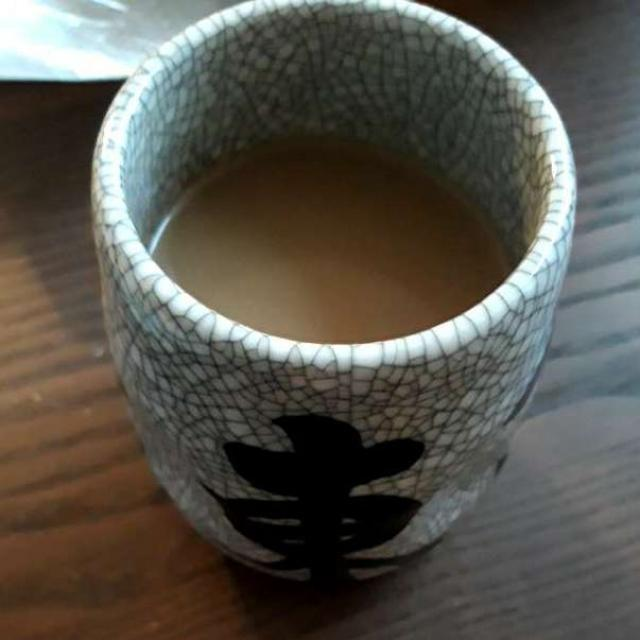coffee: (152, 142, 511, 345)
